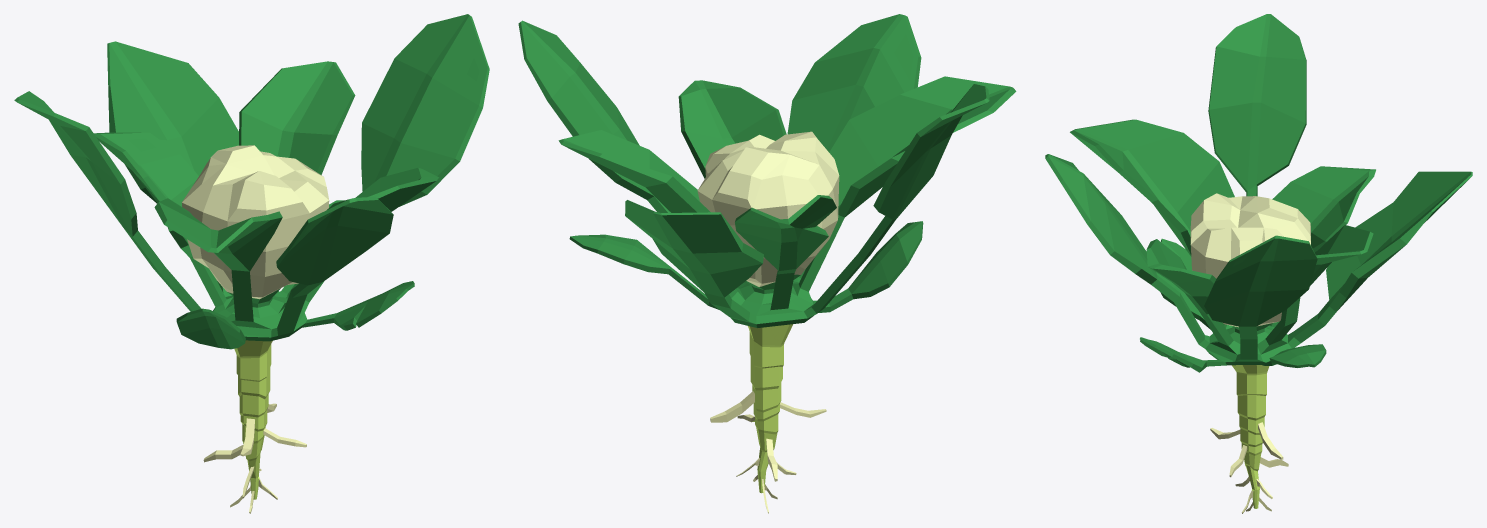
File: mod_Cauliflower_Full.fbx
The picture shows the model from 3 angles, left to right: view 1: azimuth 30°, elevation 25°; view 2: azimuth 150°, elevation 25°; view 3: azimuth 270°, elevation 25°; orthographic projection. The views are drawn at different scales.
Visible parts, largest first — view 1: Cauliflower; view 2: Cauliflower; view 3: Cauliflower.
Boxes of the visible parts, x1,y1,x2,y2 form: Cauliflower: (14,14,489,513); Cauliflower: (518,14,1016,513); Cauliflower: (1045,14,1472,513).
Size of the model in its own units: 809 by 777 by 741.
